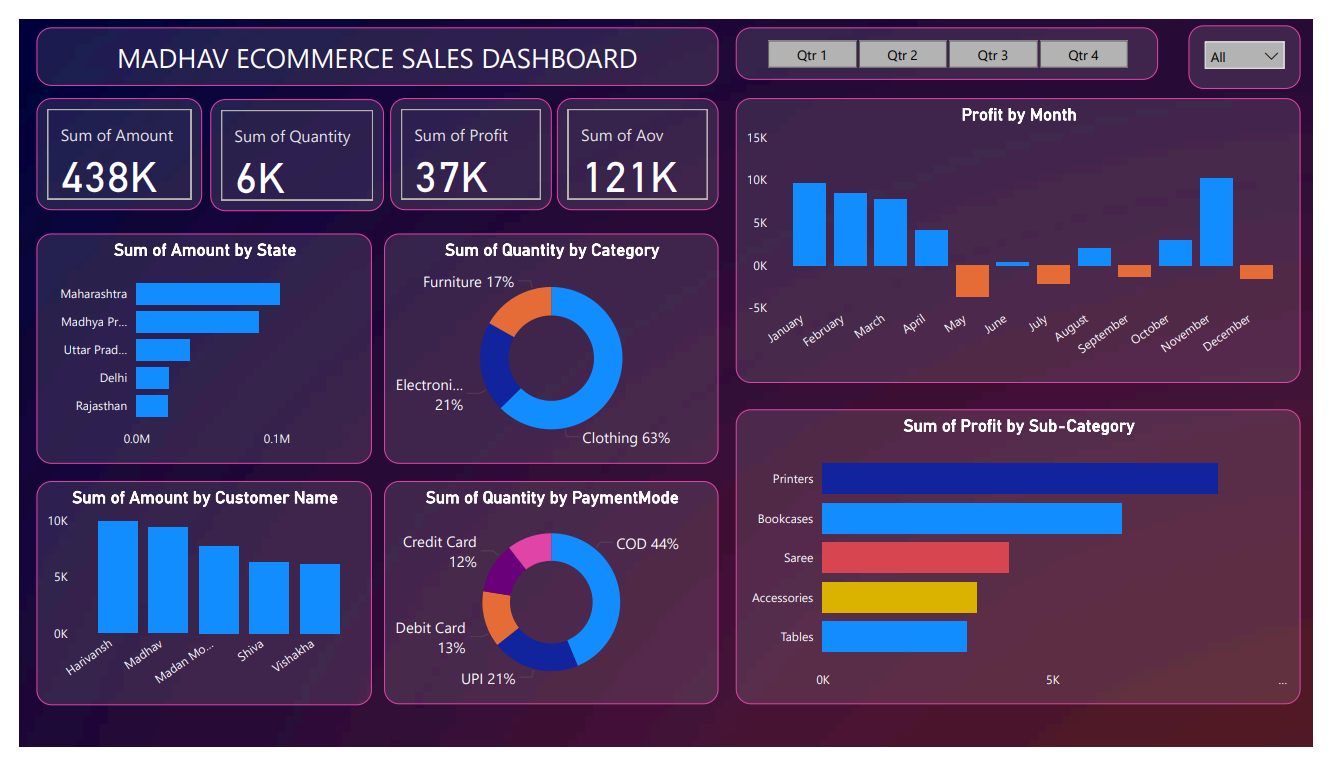

The page's visual inventory and layout, read from the dashboard file:
{"tool":"powerbi","page":{"name":"Page 1","canvas":[1280,720],"ordinal":0},"visuals":[{"type":"textbox","box":[16.9,8.4,675.6,57.9],"z":0},{"type":"columnChart","title":" Profit by Month","fields":{"Y":["Details.Profit"],"Category":["Orders.Date.Variation.Date Hierarchy.Month"]},"box":[709.4,78.4,558.6,281.1],"z":1000},{"type":"barChart","fields":{"Category":["Details.Sub-Category"],"Y":["Details.Profit"]},"box":[709.4,386.1,558.6,292],"z":2000},{"type":"donutChart","fields":{"Category":["Details.Category"],"Y":["Details.Quantity"]},"box":[360.7,212.3,331.8,228],"z":3000},{"type":"donutChart","fields":{"Category":["Details.PaymentMode"],"Y":["Details.Quantity"]},"box":[360.7,457.2,331.8,220.8],"z":4000},{"type":"cardVisual","fields":{"Data":["Details.Amount"]},"box":[16.9,78.4,152,111],"z":5000},{"type":"cardVisual","fields":{"Data":["Details.Quantity"]},"box":[181.1,78.2,171.5,111.1],"z":6000},{"type":"cardVisual","fields":{"Data":["Details.Profit"]},"box":[360.7,78.4,160.5,111],"z":7000},{"type":"cardVisual","fields":{"Data":["Details.Aov"]},"box":[532,78.4,160.5,111],"z":8000},{"type":"barChart","fields":{"Category":["Orders.State"],"Y":["Details.Amount"]},"box":[16.9,212.3,331.8,228],"z":9000},{"type":"columnChart","fields":{"Category":["Orders.Customer Name"],"Y":["Details.Amount"]},"box":[16.9,457.2,331.8,222],"z":10000},{"type":"slicer","fields":{"Values":["Orders.Date.Variation.Date Hierarchy.Quarter"]},"box":[709.4,8.4,417.4,51.9],"z":10001},{"type":"slicer","fields":{"Values":["Orders.State"]},"box":[1157,6,111,62.7],"z":10002}]}

Visuals, with their boxes in screenshot pixels (x1, y1, x2, y2), scaled from the page's 1280x720 canvas onto the 1331x762 screenshot:
textbox: (18, 9, 720, 70)
" Profit by Month" columnChart: (738, 83, 1319, 380)
barChart - Details.Sub-Category x Details.Profit: (738, 409, 1319, 718)
donutChart - Details.Category x Details.Quantity: (375, 225, 720, 466)
donutChart - Details.PaymentMode x Details.Quantity: (375, 484, 720, 718)
cardVisual - Details.Amount: (18, 83, 176, 200)
cardVisual - Details.Quantity: (188, 83, 367, 200)
cardVisual - Details.Profit: (375, 83, 542, 200)
cardVisual - Details.Aov: (553, 83, 720, 200)
barChart - Orders.State x Details.Amount: (18, 225, 363, 466)
columnChart - Orders.Customer Name x Details.Amount: (18, 484, 363, 719)
slicer - Orders.Date.Variation.Date Hierarchy.Quarter: (738, 9, 1172, 64)
slicer - Orders.State: (1203, 6, 1319, 73)
